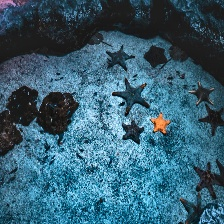starfish: (112, 78, 150, 116)
